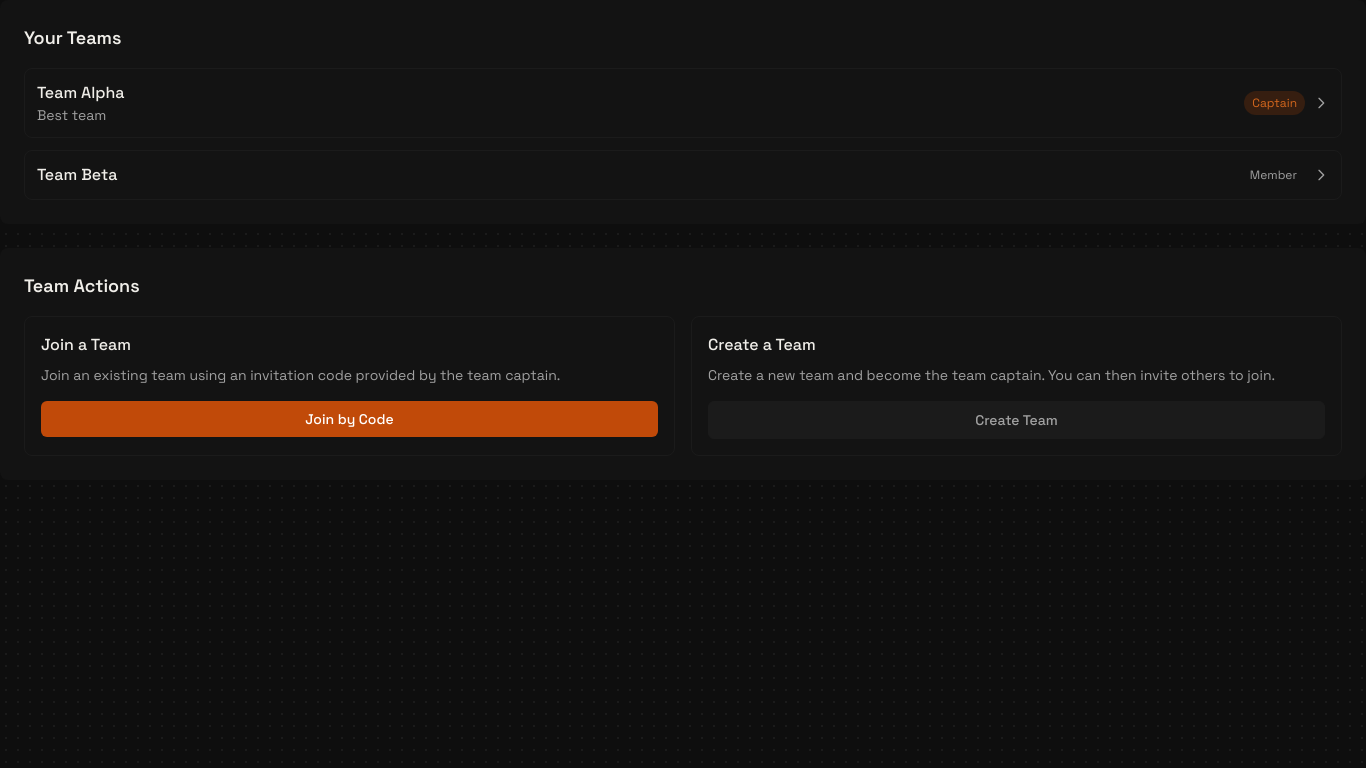
Test case: TeamsPage › shows create team modal when button is clicked
Click the button "Create Team" at (1016, 420), box [708,401,1325,439]
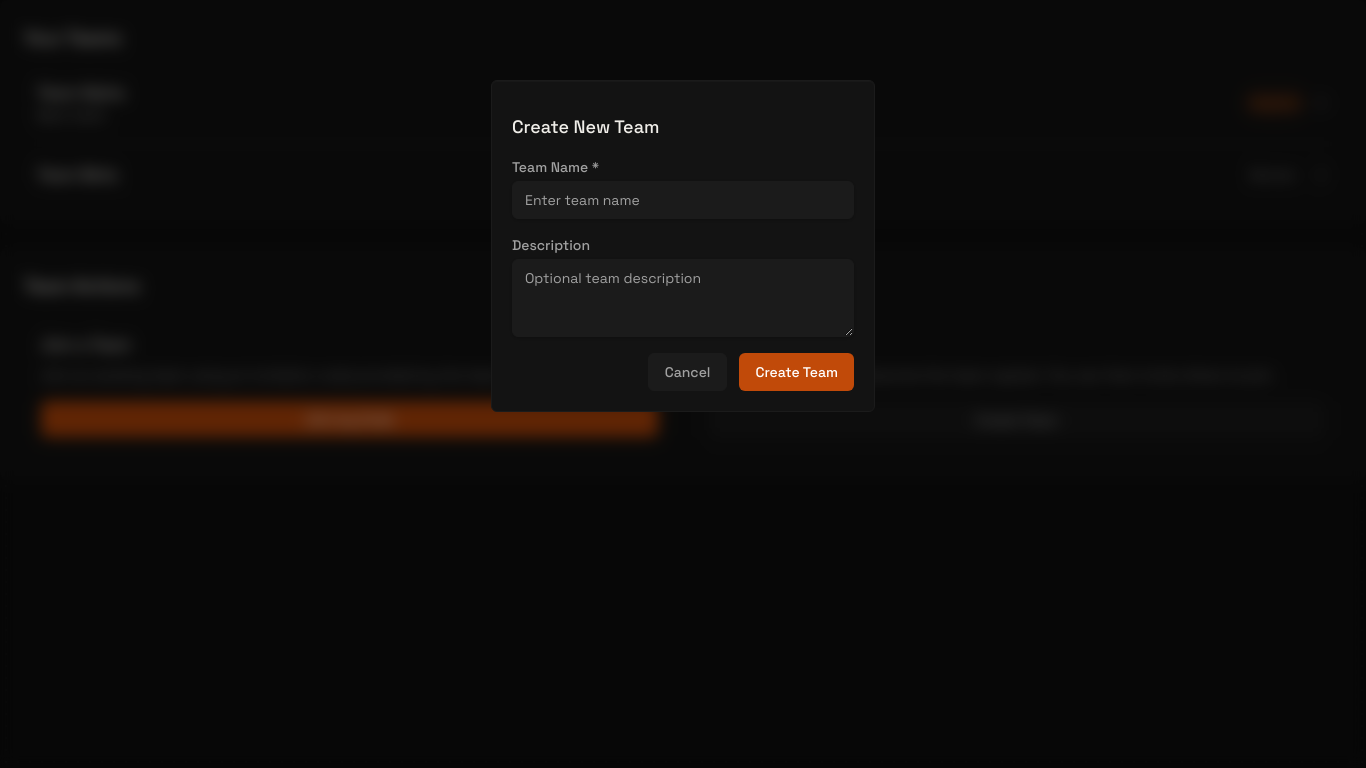
Now the field with placeholder "Enter team name" is shown, box [512,181,854,219]
